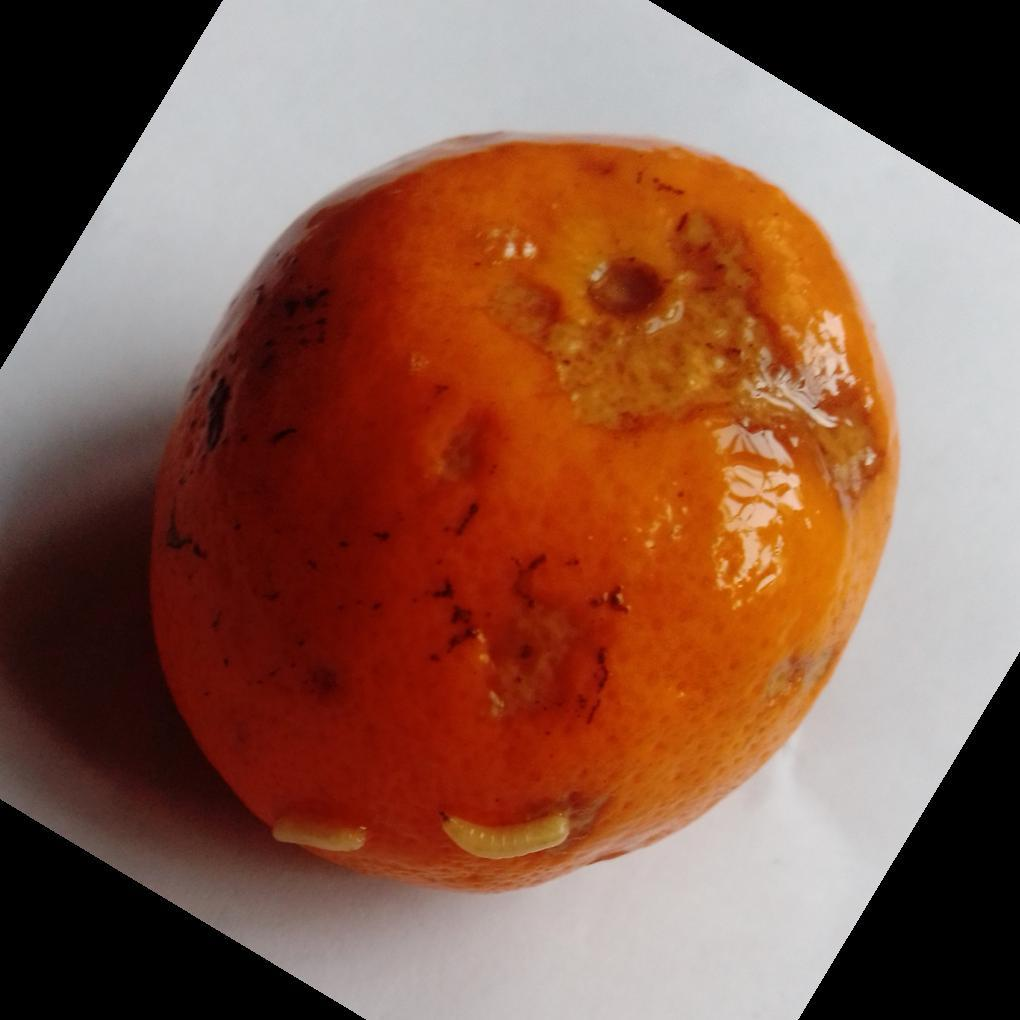FreshOrange: (147, 133, 901, 898)
